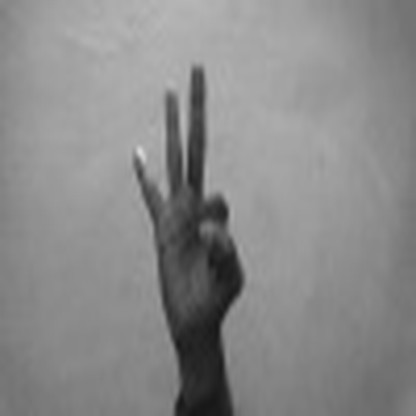f: (118, 60, 254, 352)
